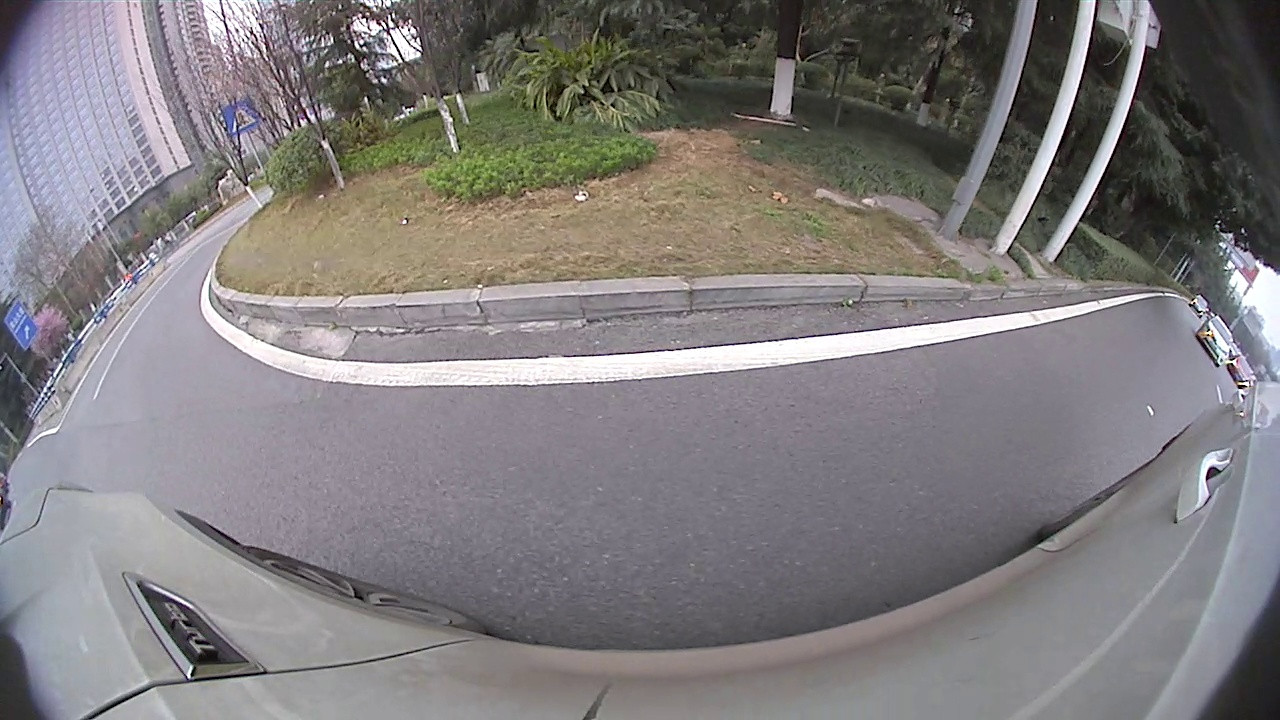car: (1195, 313, 1234, 366)
